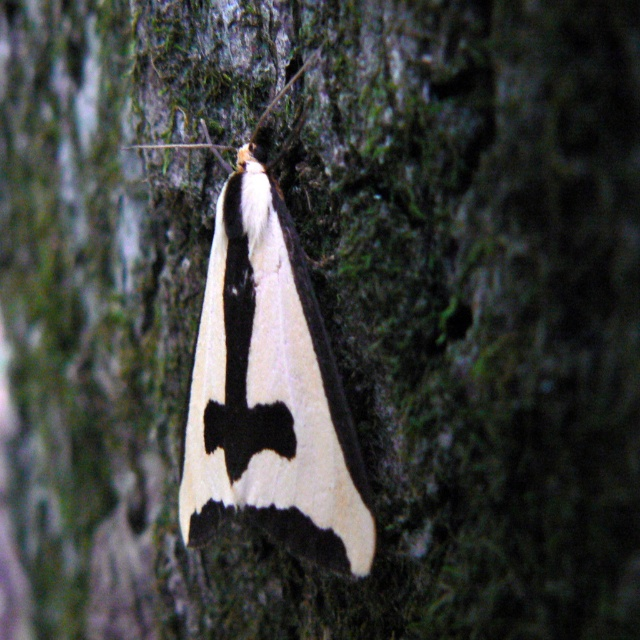Moths and butterflies: (119, 37, 379, 585)
